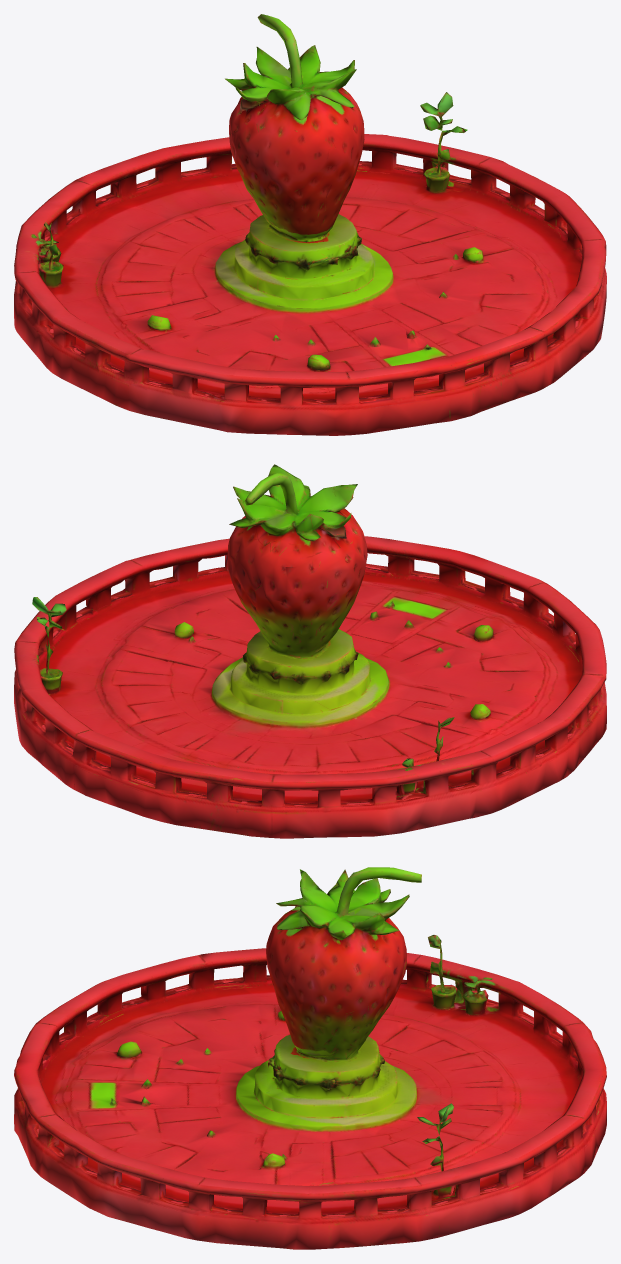
Rendered from Meshy_AI_Strawberry_Monument_0202115507_texture.fbx.
3 renders of one model, top to bottom at view 1: azimuth 30°, elevation 25°; view 2: azimuth 150°, elevation 25°; view 3: azimuth 270°, elevation 25°, orthographic.
Visible parts, largest first — view 1: Mesh1.0; view 2: Mesh1.0; view 3: Mesh1.0.
Part boxes in pixels (x1,y1,x2,y2): Mesh1.0: (14,14,606,435); Mesh1.0: (14,464,606,838); Mesh1.0: (14,867,606,1249).
Size of the model in its own units: 201 by 97.3 by 201.
1 material, 1 textured.
